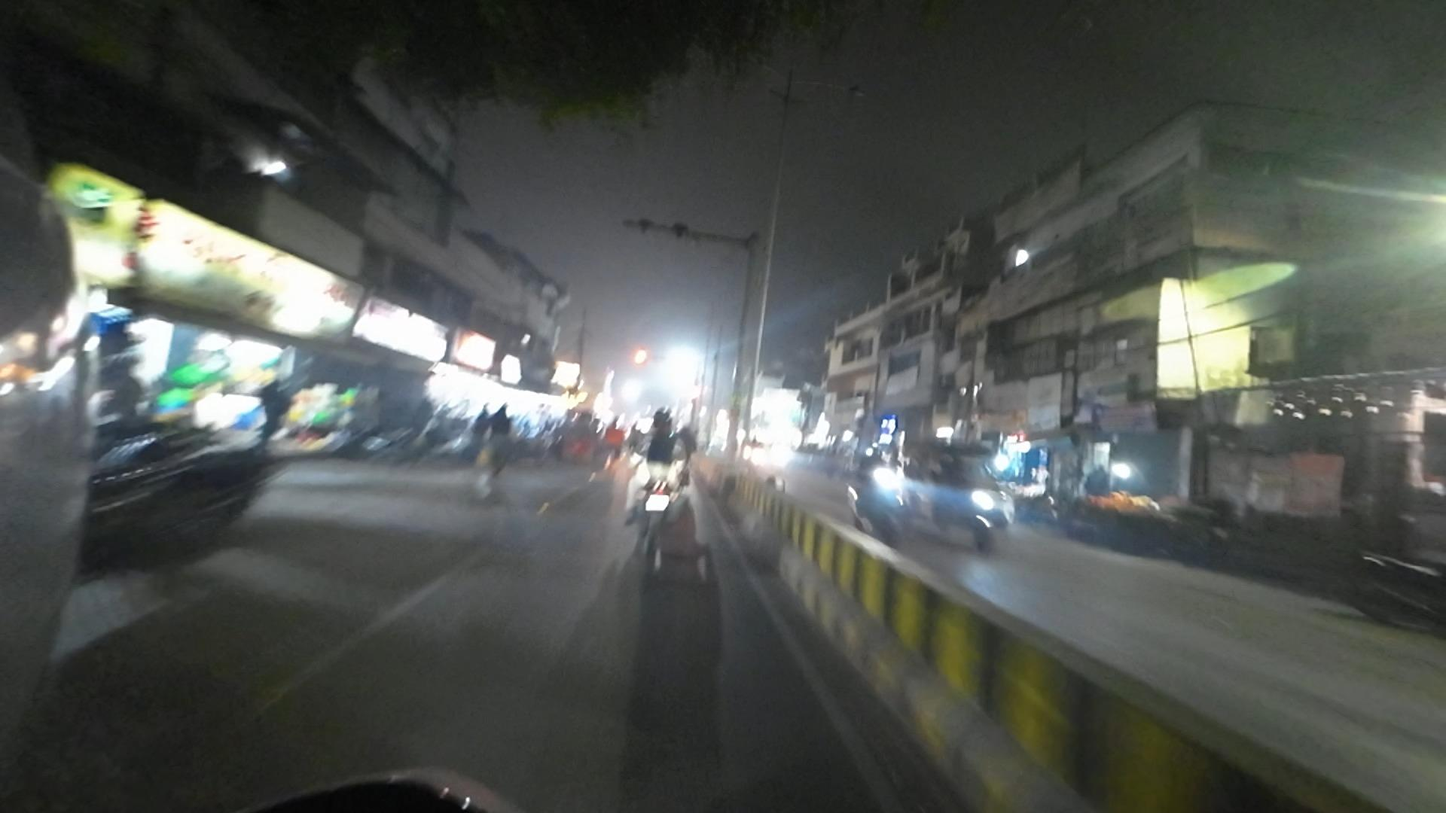streetlight: (797, 72, 870, 104)
